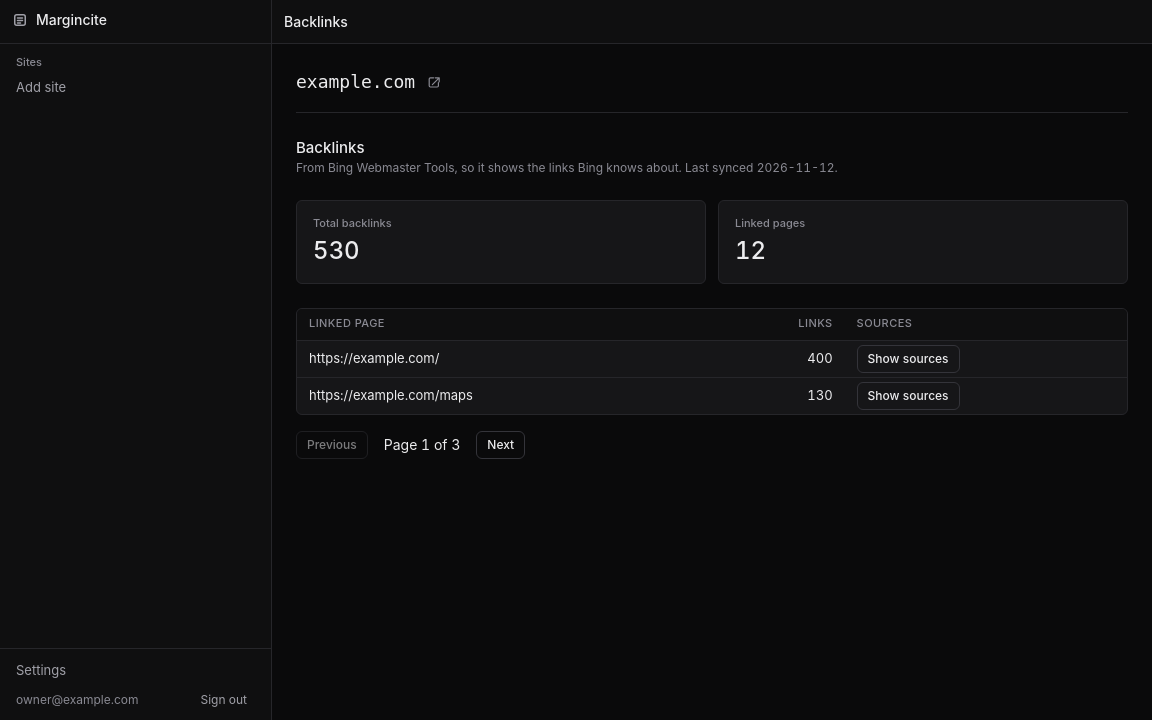
Test: a page's sources load on demand and are shown safely
Check: the table named "Most linked pages" is shown, box [297, 309, 1127, 414]
What coordinates should you click on to do the following:
click the button with aria-label "Show sources for https://example.com/"
I would click on:
 (908, 359)
Its box is [857, 345, 960, 373].
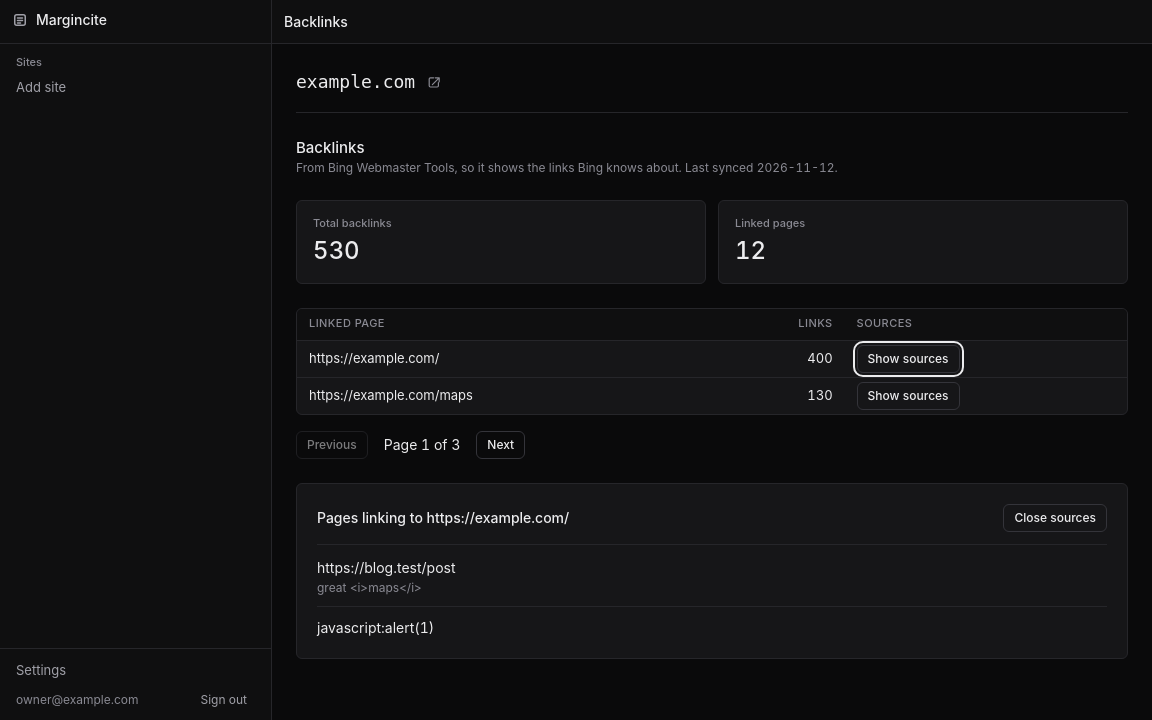
Check: the text "great <i>maps</i>" is shown, box [317, 580, 422, 595]
